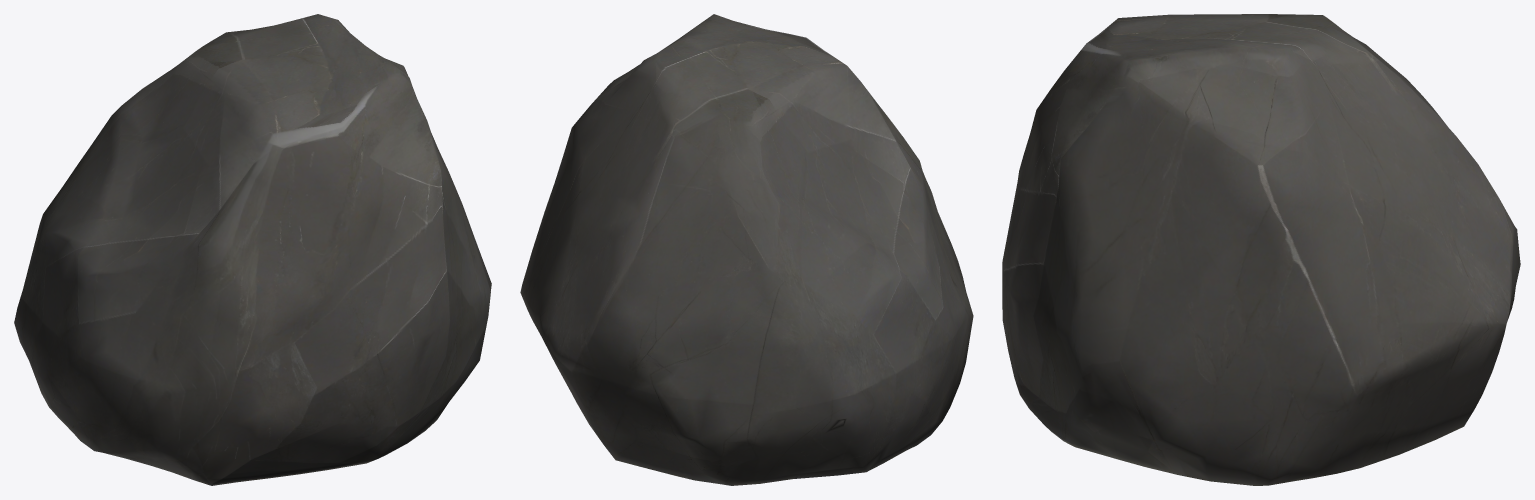
File: Polygonal_Boulder_0811164055_texture.fbx
The picture shows the model from 3 angles, left to right: view 1: azimuth 30°, elevation 25°; view 2: azimuth 150°, elevation 25°; view 3: azimuth 270°, elevation 25°; orthographic projection. The views are drawn at different scales.
Visible parts, largest first — view 1: input; view 2: input; view 3: input.
Boxes of the visible parts, x1,y1,x2,y2 form: input: (14,14,491,485); input: (520,14,973,485); input: (1002,14,1520,485).
Bounding box in the file's own units: 176 × 155 × 182.
1 material, 1 textured.
